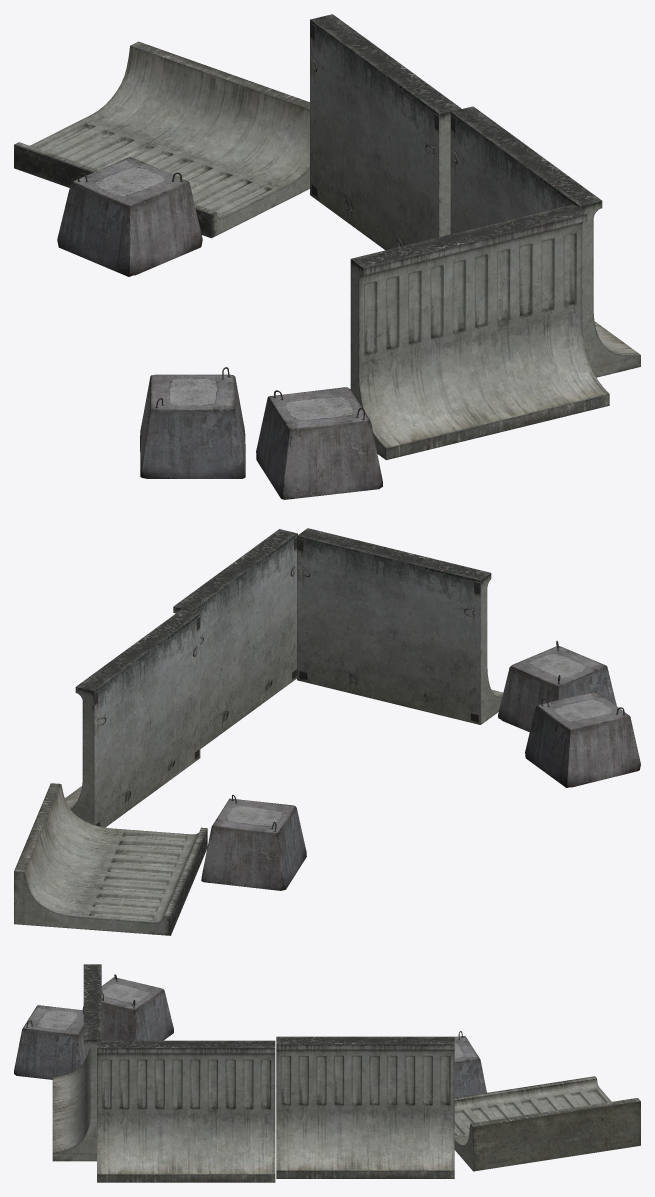
File: small_self_stand_fence_okp.glb
The picture shows the model from 3 angles, top to bottom: view 1: azimuth 30°, elevation 25°; view 2: azimuth 150°, elevation 25°; view 3: azimuth 270°, elevation 25°; orthographic projection. The views are drawn at different scales.
Visible parts, largest first — view 1: fence_stand_small, fence_stand_small003, fence_stand_small002, fence_stand_small001, fence_base002, fence_base, fence_base003; view 2: fence_stand_small, fence_stand_small002, fence_stand_small003, fence_stand_small001, fence_base003, fence_base002, fence_base; view 3: fence_stand_small002, fence_stand_small001, fence_stand_small003, fence_stand_small, fence_base, fence_base003, fence_base002.
Part boxes in pixels (x1,y1,x2,y2): fence_stand_small: [350, 204, 609, 460]; fence_stand_small003: [14, 41, 309, 238]; fence_stand_small002: [310, 14, 461, 250]; fence_stand_small001: [450, 106, 640, 377]; fence_base002: [57, 157, 202, 276]; fence_base: [256, 387, 382, 499]; fence_base003: [140, 367, 245, 478]; fence_stand_small: [297, 528, 503, 724]; fence_stand_small002: [65, 609, 200, 827]; fence_stand_small003: [14, 783, 207, 935]; fence_stand_small001: [173, 529, 297, 748]; fence_base003: [525, 691, 640, 787]; fence_base002: [201, 795, 306, 890]; fence_base: [498, 641, 616, 731]; fence_stand_small002: [276, 1036, 454, 1178]; fence_stand_small001: [97, 1040, 275, 1182]; fence_stand_small003: [454, 1076, 640, 1171]; fence_stand_small: [52, 964, 103, 1161]; fence_base: [14, 1005, 89, 1079]; fence_base003: [82, 974, 173, 1040]; fence_base002: [454, 1031, 486, 1097].
Size of the model in its own units: 4.37 by 1.54 by 7.02.
2 materials, 2 textured.
